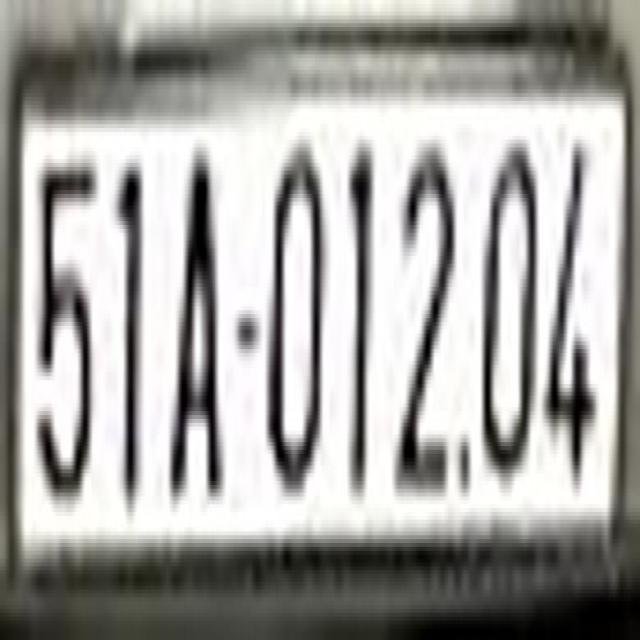0: (265, 144, 325, 492), (482, 120, 536, 493)
1: (346, 151, 376, 508), (116, 151, 144, 508)
2: (400, 120, 450, 493)
4: (547, 143, 596, 470)
5: (41, 178, 93, 496)
A: (170, 148, 225, 500)
